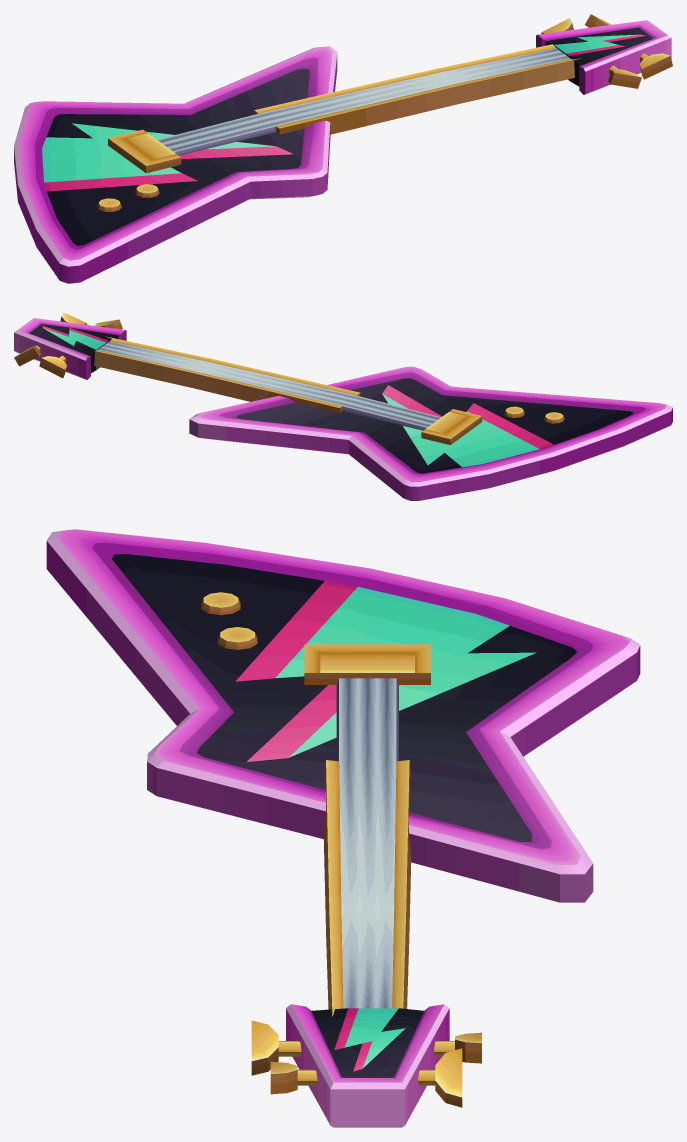
The model's file is berlinBoard01.glb.
3 renders of one model, top to bottom at view 1: azimuth 30°, elevation 25°; view 2: azimuth 150°, elevation 25°; view 3: azimuth 270°, elevation 25°, orthographic. The views are drawn at different scales.
Parts seen in each view (by area): view 1: berlinBoard01; view 2: berlinBoard01; view 3: berlinBoard01.
Boxes of the visible parts, left/top/right/bottom form: berlinBoard01: left=14, top=14, right=672, bottom=283; berlinBoard01: left=14, top=312, right=672, bottom=500; berlinBoard01: left=46, top=529, right=640, bottom=1127.
Bounding box in the file's own units: 10.12 × 0.4477 × 4.54.
Materials: 1 (1 with a texture image).
